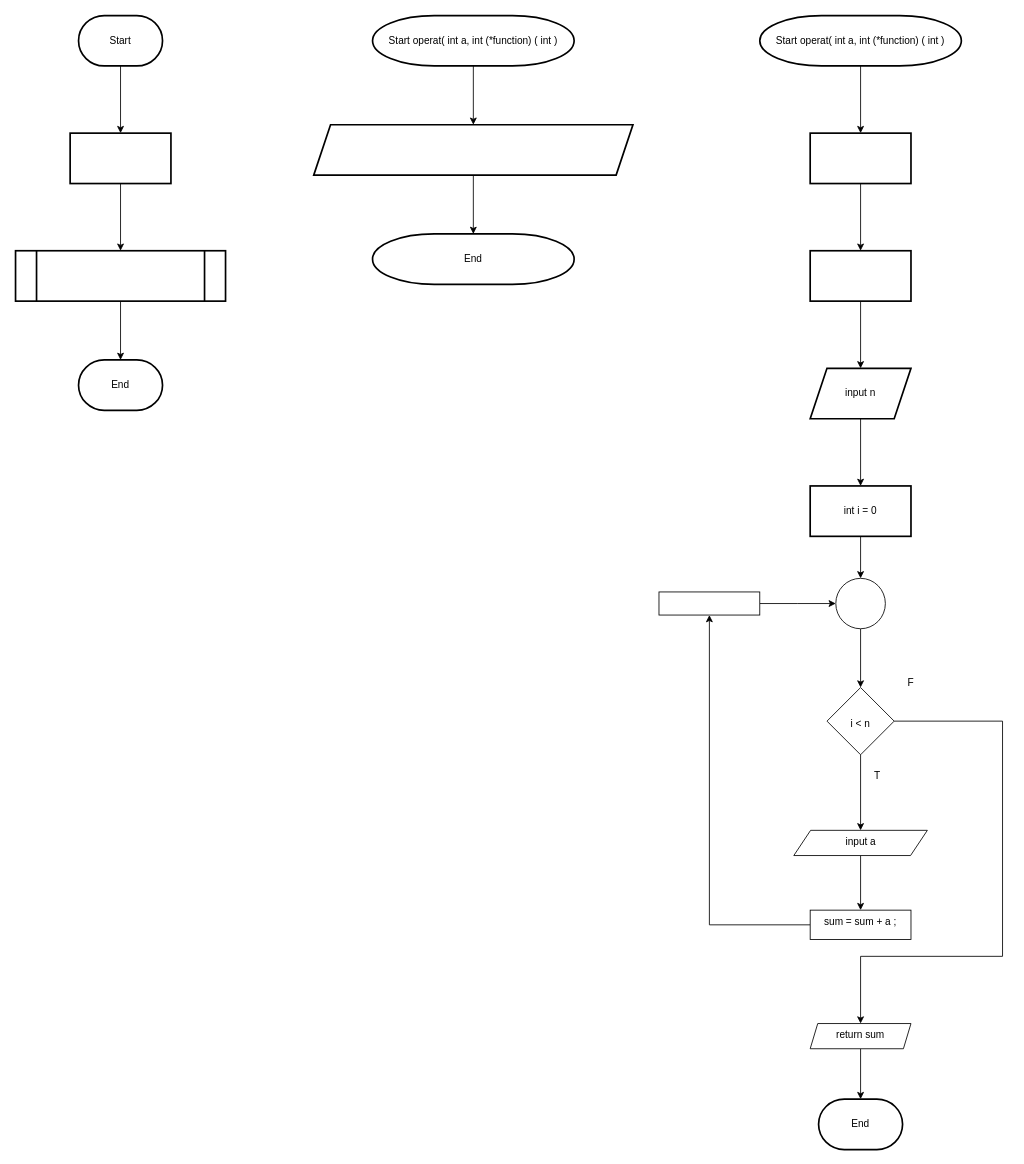
This 1024x1164 diagram has some shape labels left out. Each missing label, with the centre of its shape:
"i++" belongs at point (709, 603).
"int a" belongs at point (120, 158).
"int n" belongs at point (860, 158).
"int sum = 0" belongs at point (860, 275).
"print operat( a, add_data)" belongs at point (120, 275).
"return (*function) ( a )" belongs at point (472, 149).
